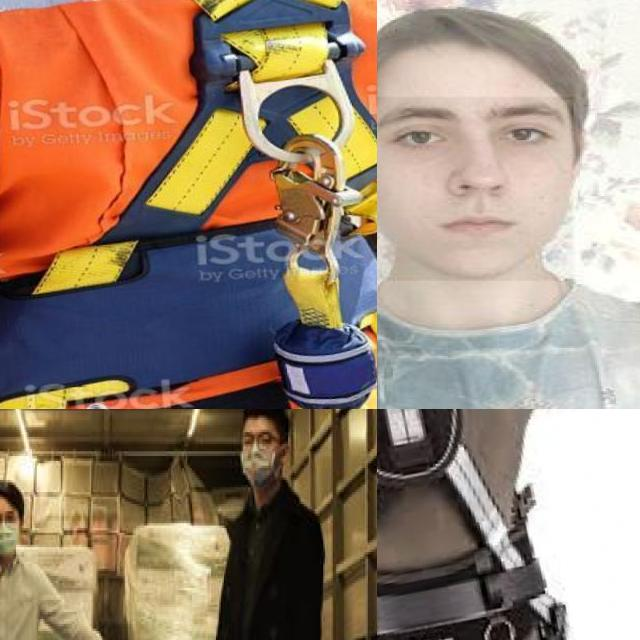Harness: (33, 0, 377, 409), (377, 409, 524, 570)
face_mask: (240, 427, 283, 490), (0, 504, 19, 556)
face_nomask: (377, 97, 573, 281)
glasses: (240, 427, 272, 456)
head_nohelmet: (377, 0, 586, 101), (237, 409, 285, 434), (0, 485, 27, 509)
person: (377, 0, 640, 409), (195, 409, 339, 640)
